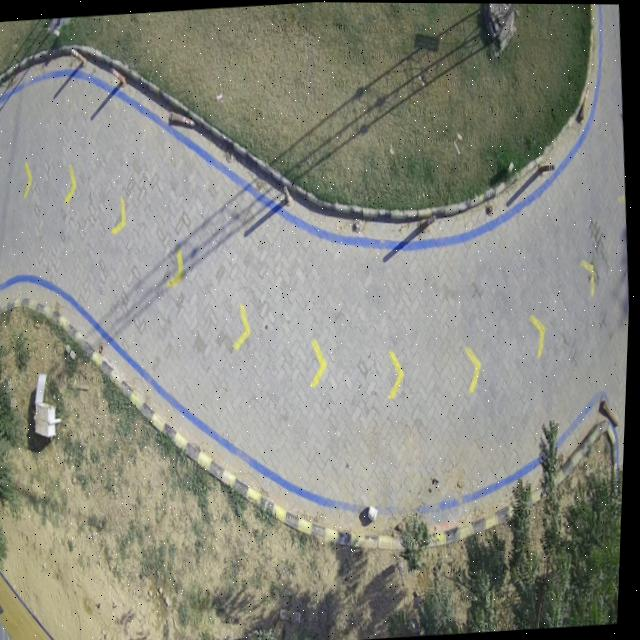No Car: (0, 2, 631, 640)
